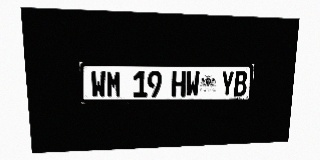1: (133, 70, 147, 97)
9: (148, 71, 162, 97)
B: (233, 71, 247, 96)
H: (172, 71, 186, 97)
M: (106, 70, 121, 98)
W: (90, 70, 106, 98), (186, 71, 200, 97)
Y: (220, 71, 234, 96)
